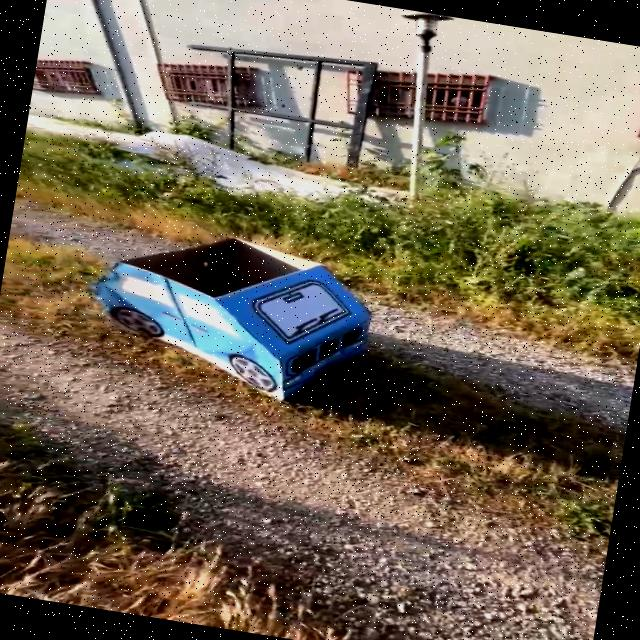blue_car: (60, 194, 433, 429)
